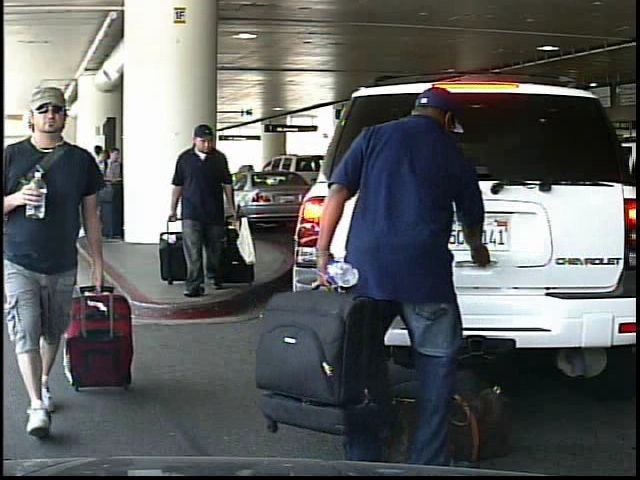person: (304, 75, 493, 472), (4, 83, 128, 446), (161, 122, 247, 299)
